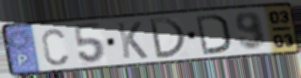5: (71, 20, 108, 66)
9: (234, 10, 268, 51)
C: (40, 27, 70, 67)
D: (147, 16, 188, 60), (194, 12, 232, 56)
K: (115, 20, 150, 60)
